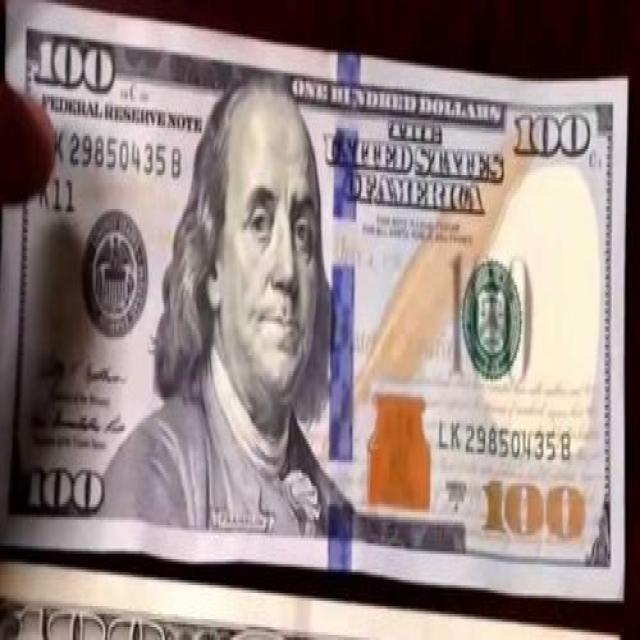100-Front: (0, 2, 628, 606)
